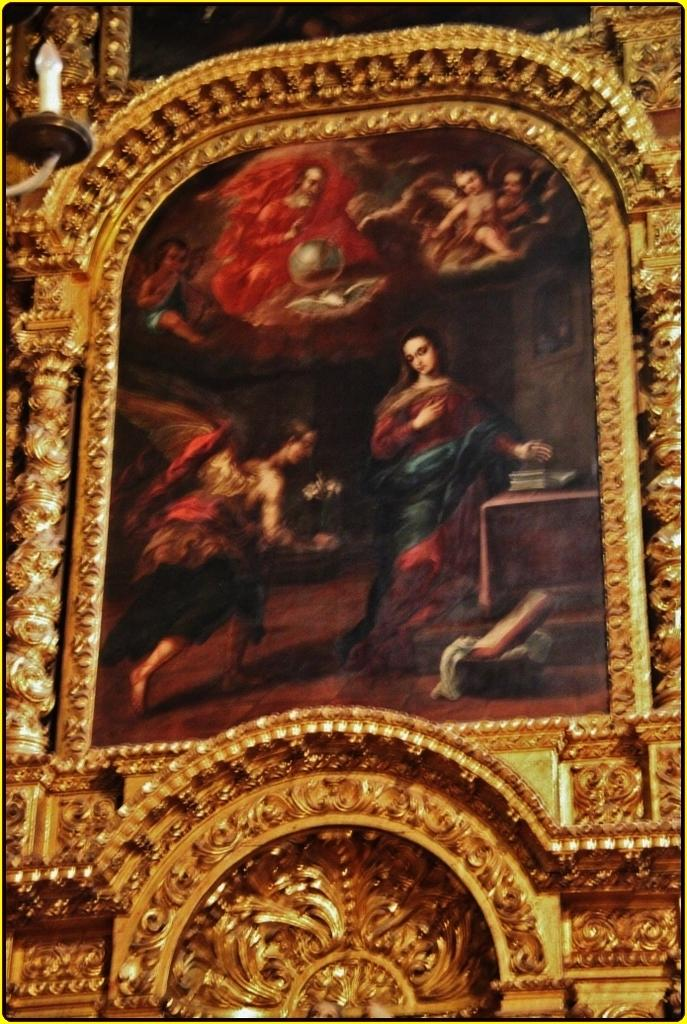Sem Máscara: (400, 334, 436, 371), (290, 427, 314, 460), (454, 171, 483, 192)
